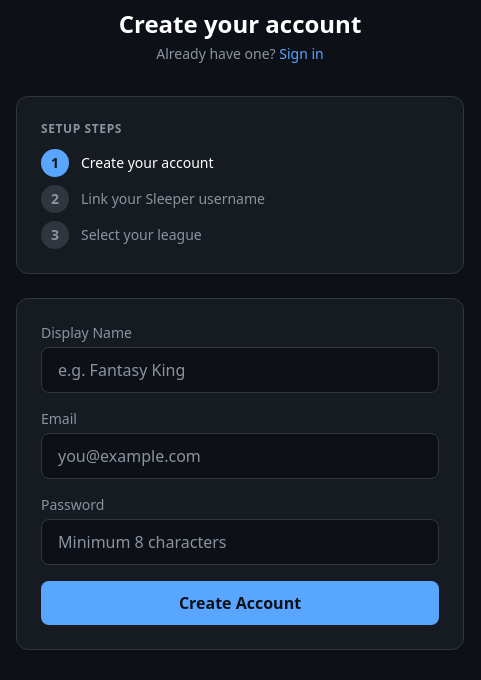
Scenario: Register page › falls back to a generic error message
Type "Fantasy King" into the field labelled "Display Name" at {"x": 240, "y": 370}, box [41,347,439,393]
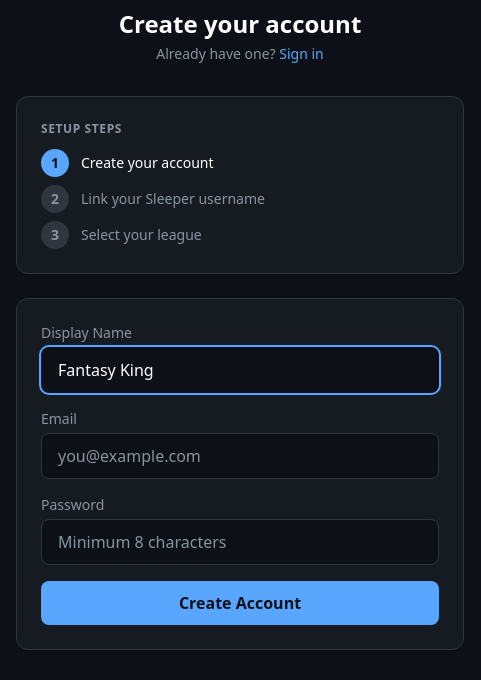
Type "king@example.com" into the field labelled "Email" at {"x": 240, "y": 456}, box [41,433,439,479]
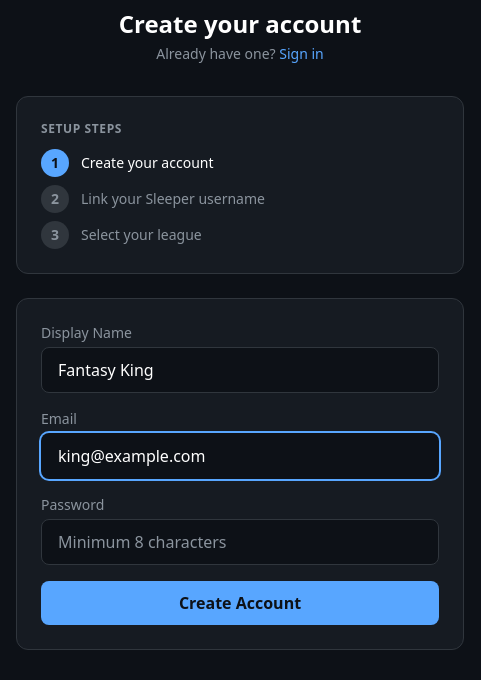
Type "password123" into the password field labelled "Password" at {"x": 240, "y": 542}, box [41,519,439,565]
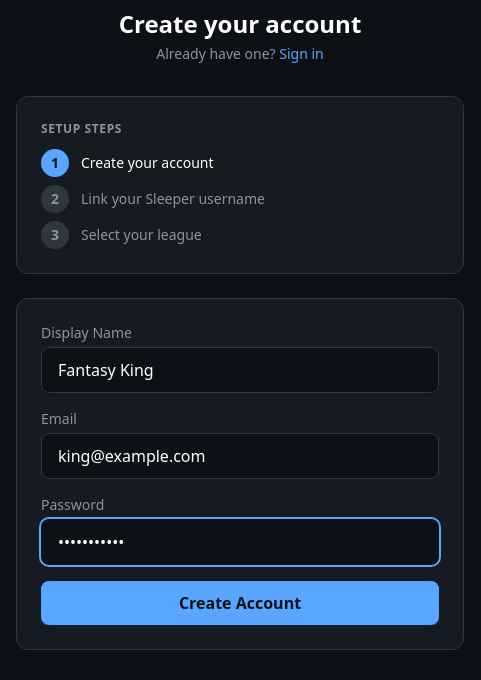
Click the button "Create Account" at {"x": 240, "y": 603}, box [41,581,439,625]
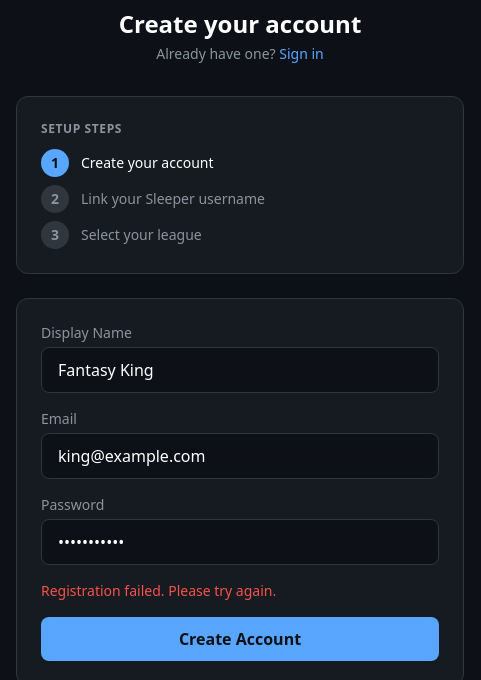
Expected: the text "Registration failed. Please try again." is shown, [41,581,276,600]
